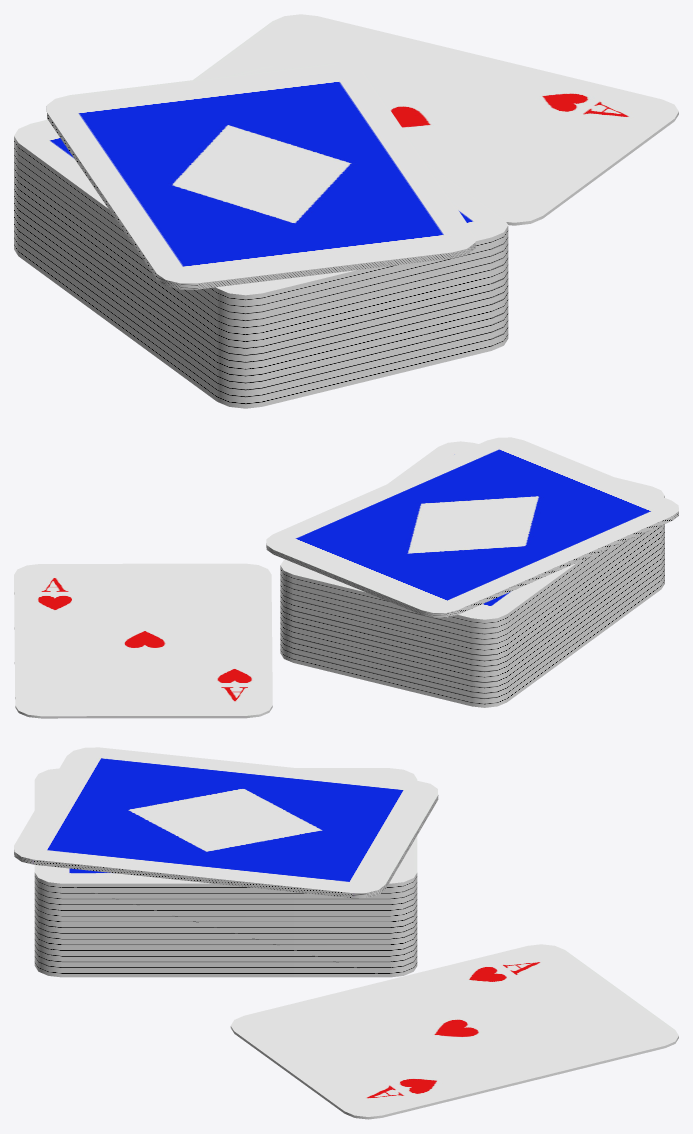
Rendered from cards.fbx.
The picture shows the model from 3 angles, top to bottom: view 1: azimuth 30°, elevation 25°; view 2: azimuth 150°, elevation 25°; view 3: azimuth 270°, elevation 25°; orthographic projection. The views are drawn at different scales.
Parts seen in each view (by area): view 1: pCube6; view 2: pCube6; view 3: pCube6.
Boxes of the visible parts, x1=… form: pCube6: x1=14, y1=14, x2=678, y2=408; pCube6: x1=14, y1=437, x2=678, y2=718; pCube6: x1=14, y1=747, x2=678, y2=1119.
Size of the model in its own units: 19.73 by 3.34 by 20.23.
1 material, 1 textured.
